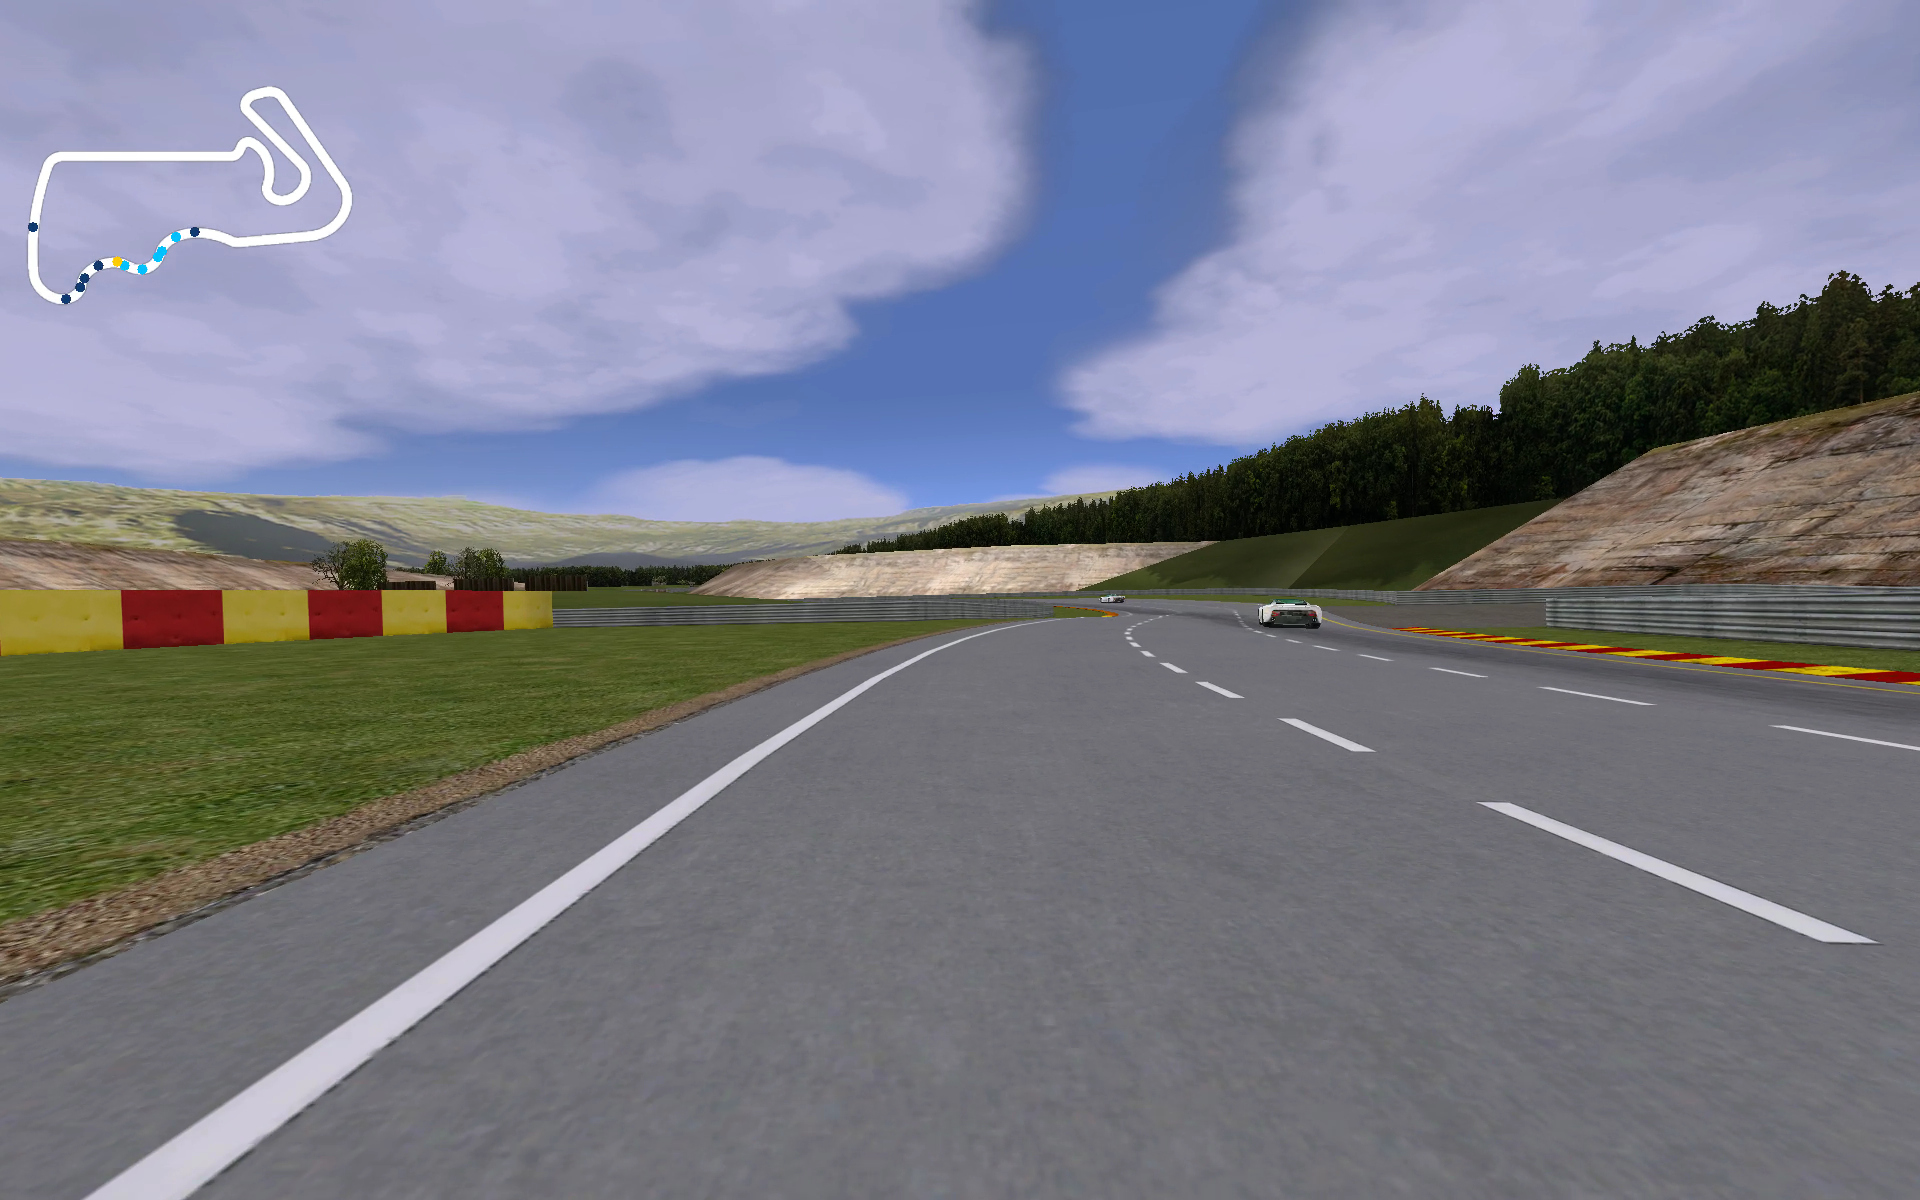car: (1254, 596, 1326, 630)
